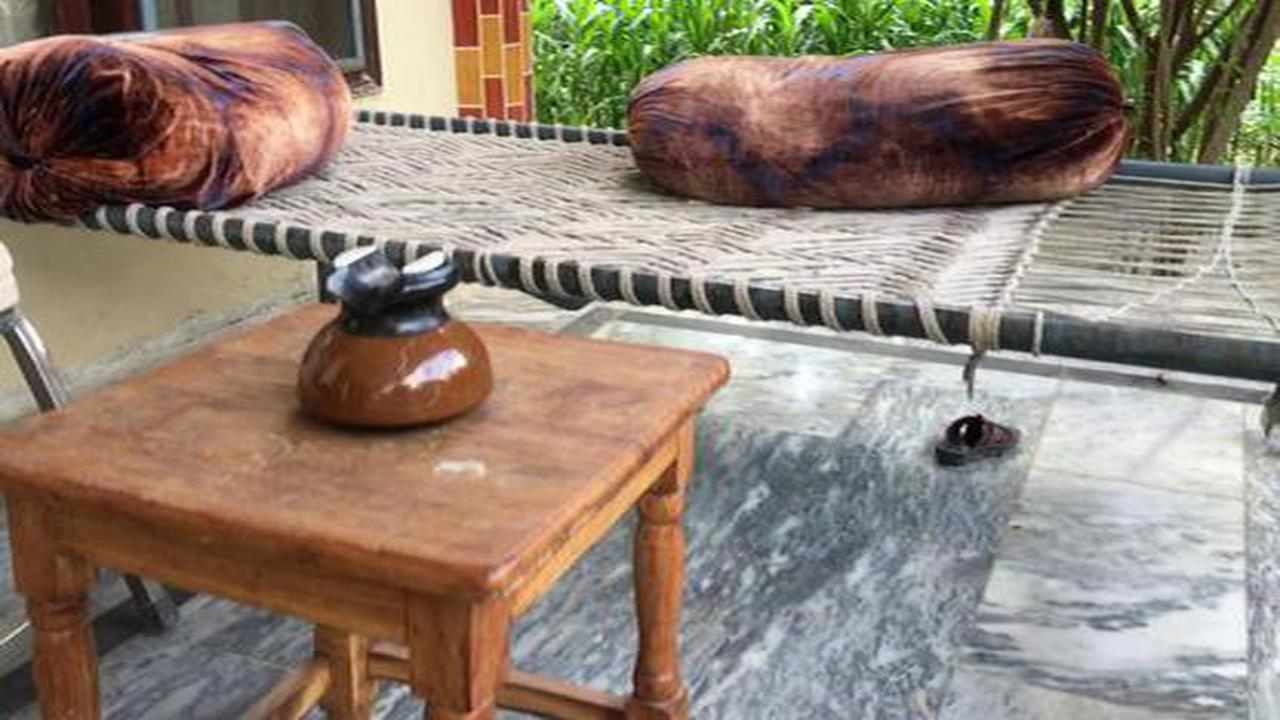insulator_pin: (274, 224, 514, 438)
